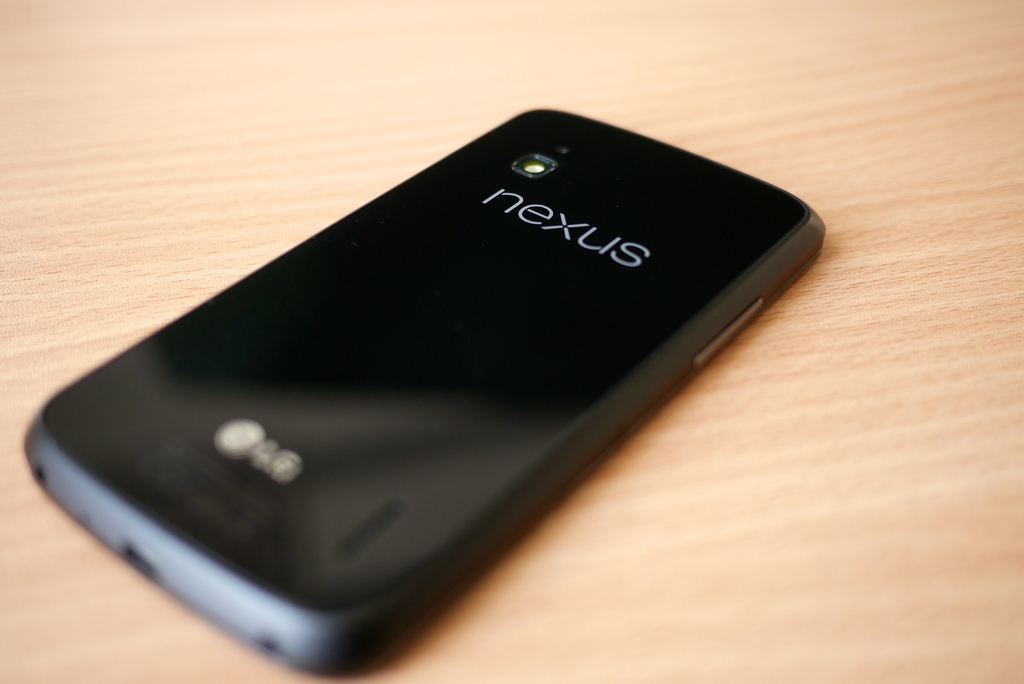mobile phone: (32, 100, 841, 656)
